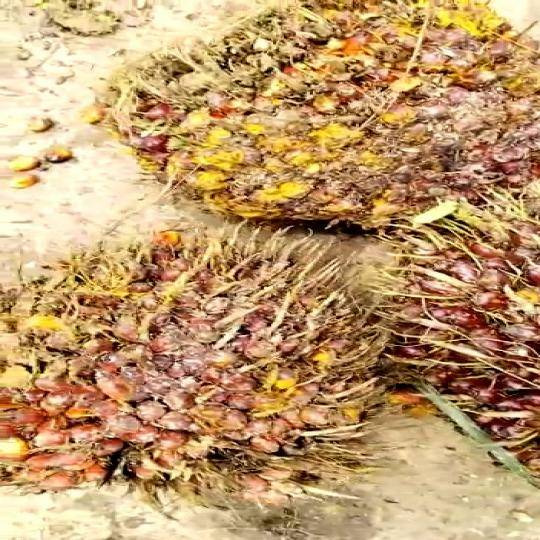masak: (0, 221, 399, 508), (87, 0, 540, 238)
